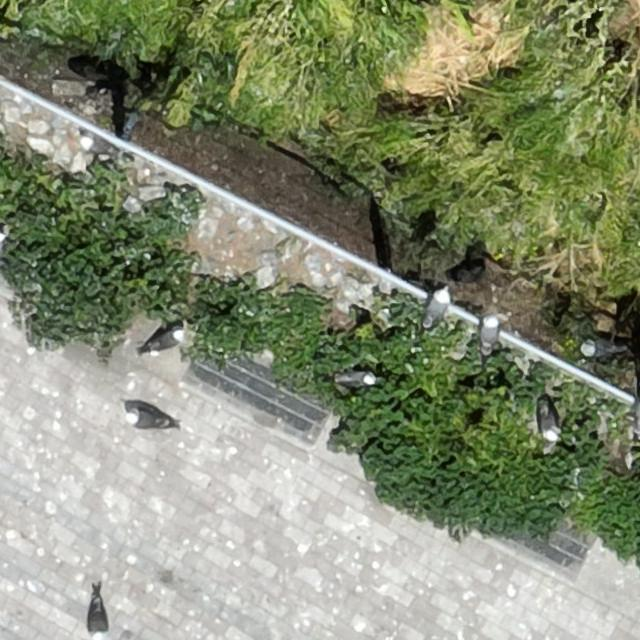umineko: (578, 341, 626, 358), (426, 290, 449, 325), (89, 601, 108, 637), (128, 411, 167, 428), (541, 406, 559, 441), (151, 330, 182, 350), (80, 136, 108, 157), (482, 316, 499, 349), (337, 372, 373, 386)
